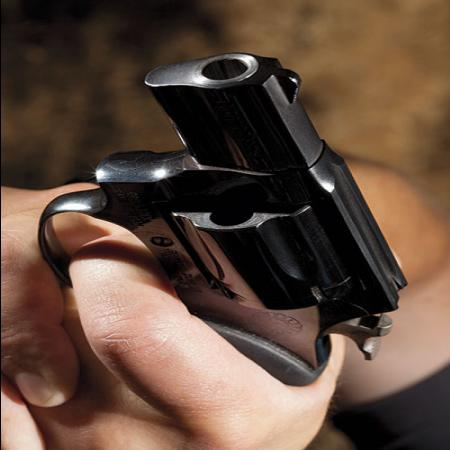Pistol: (37, 52, 414, 397)
